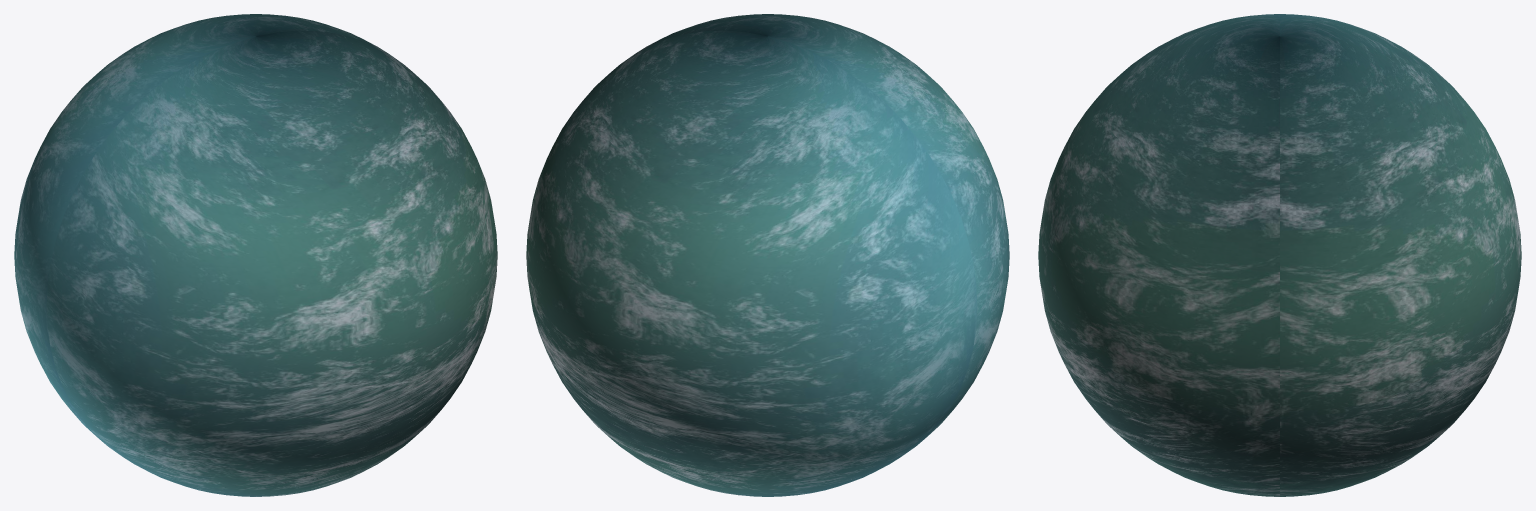
The model's file is Kepler_22b.glb.
3 views of the same model, side by side, from view 1: azimuth 30°, elevation 25°; view 2: azimuth 150°, elevation 25°; view 3: azimuth 270°, elevation 25° (orthographic).
Visible parts, largest first — view 1: Kepler_22b; view 2: Kepler_22b; view 3: Kepler_22b.
Part boxes in pixels (box(x1,y1,x2,y2)): Kepler_22b: box(14, 14, 497, 496); Kepler_22b: box(526, 14, 1009, 496); Kepler_22b: box(1038, 14, 1521, 496).
Bounding box in the file's own units: 8 × 8 × 8.
Materials: 1 (1 with a texture image).
